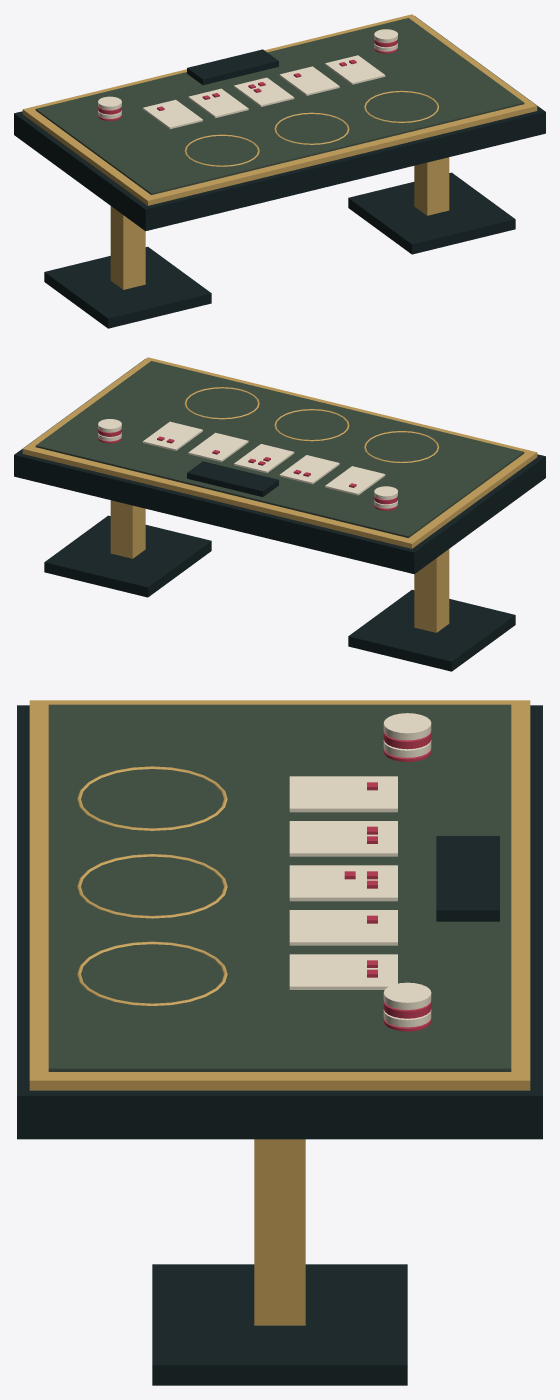
File: letitride.glb
3 views of the same model, one above another, from view 1: azimuth 30°, elevation 25°; view 2: azimuth 150°, elevation 25°; view 3: azimuth 270°, elevation 25° (orthographic). The views are drawn at different scales.
Bounding box in the file's own units: 2.95 × 1.14 × 1.65.
